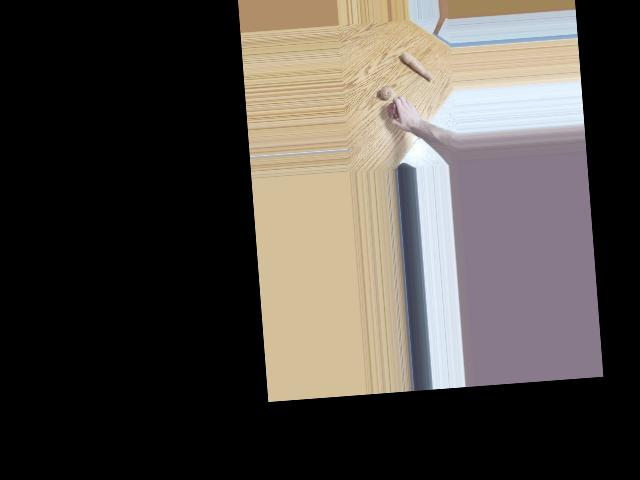onion: (387, 101, 400, 118)
